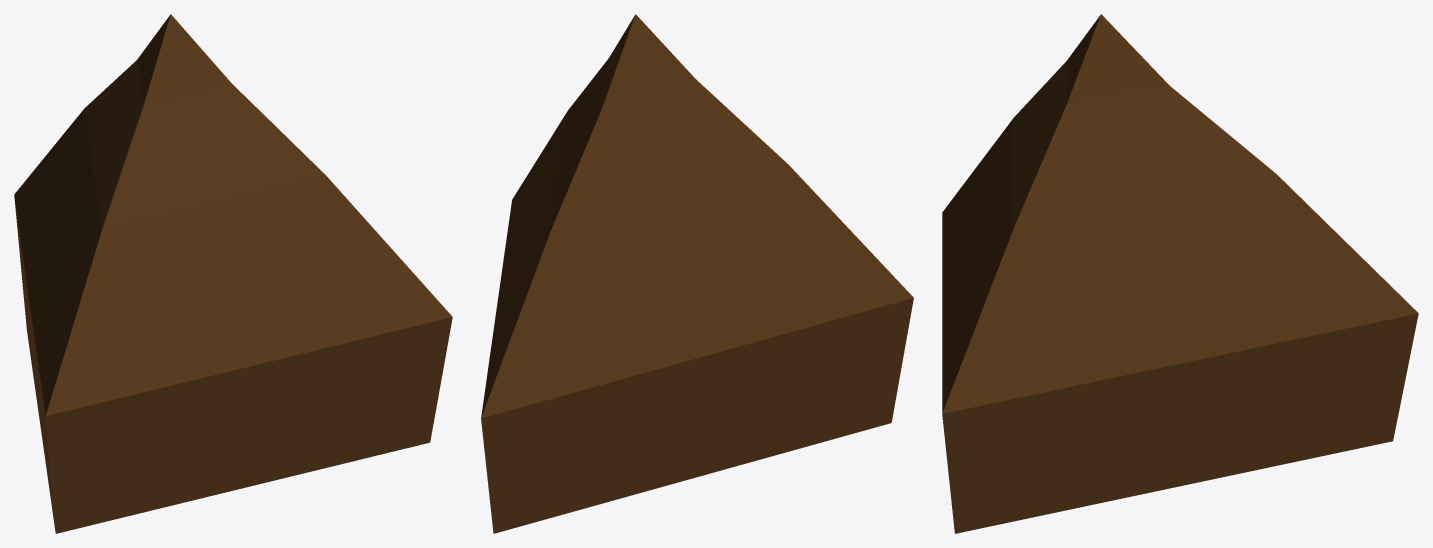
File: chispa chocolate 1.fbx
3 renders of one model, left to right at view 1: azimuth 30°, elevation 25°; view 2: azimuth 150°, elevation 25°; view 3: azimuth 270°, elevation 25°, orthographic. The views are drawn at different scales.
Visible parts, largest first — view 1: chocolate chip; view 2: chocolate chip; view 3: chocolate chip.
Part boxes in pixels (<box>): chocolate chip: <box>14,14,452,533</box>; chocolate chip: <box>481,14,913,533</box>; chocolate chip: <box>942,14,1418,533</box>.
Bounding box in the file's own units: 0.5681 × 0.5681 × 0.5621.
